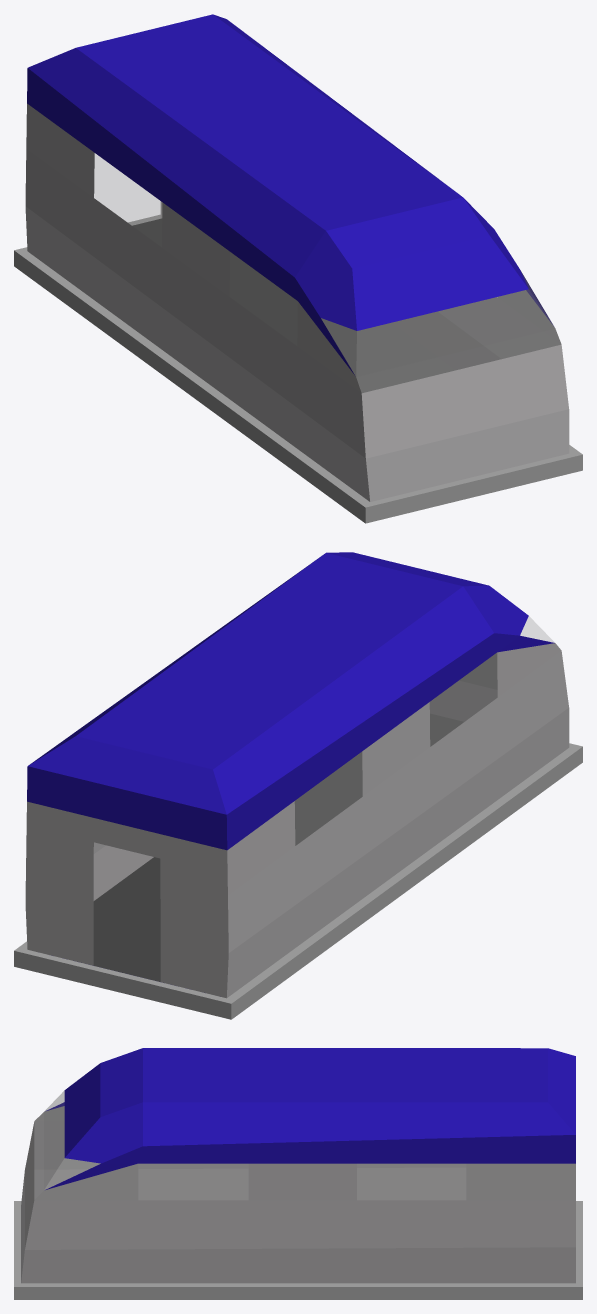
The model's file is trainsample.glb.
The picture shows the model from 3 angles, top to bottom: view 1: azimuth 30°, elevation 25°; view 2: azimuth 150°, elevation 25°; view 3: azimuth 270°, elevation 25°; orthographic projection. The views are drawn at different scales.
Visible parts, largest first — view 1: Cube; view 2: Cube; view 3: Cube.
Part boxes in pixels (x1,y1,x2,y2): Cube: [14, 14, 582, 523]; Cube: [14, 552, 582, 1019]; Cube: [14, 1048, 582, 1299].
Size of the model in its own units: 2.18 by 2.15 by 6.11.
